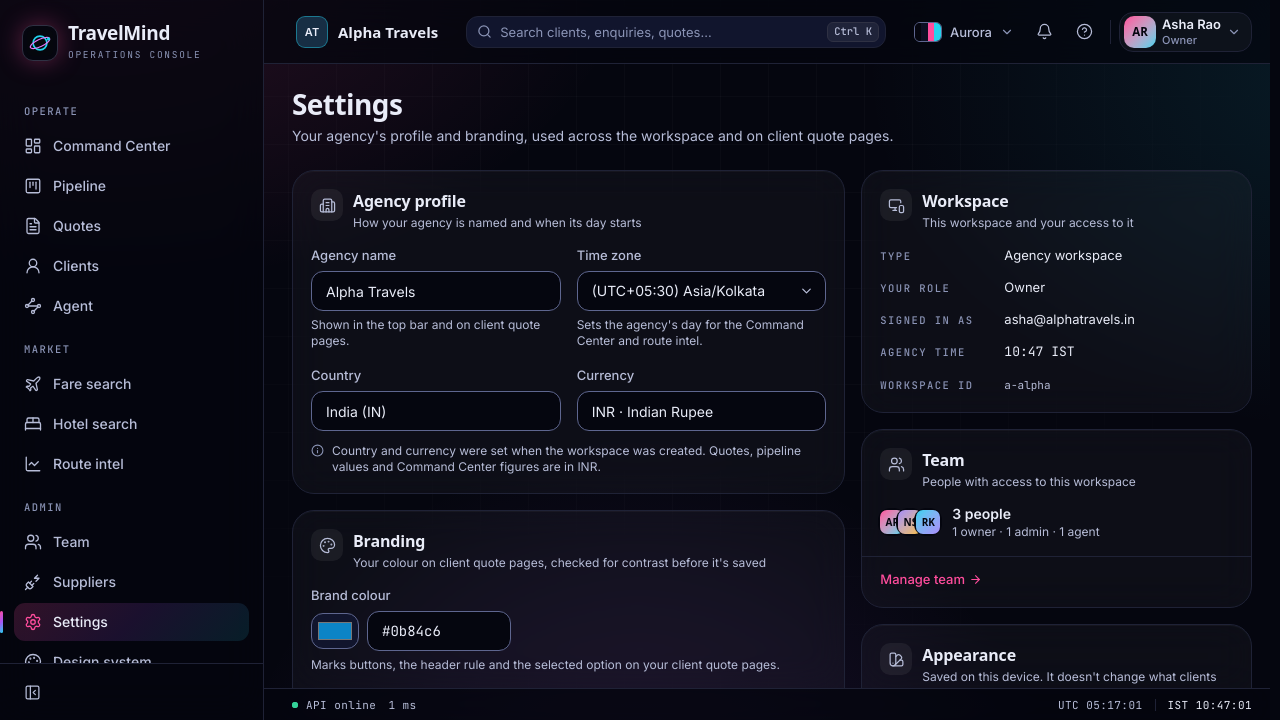
Test: the brand colour follows both the picker and the hex field, and the preview shows it
Replace the text in the field named "Brand colour hex" with "#7C3AED" at (439, 631), box [367,611,511,651]
(page scrolled)
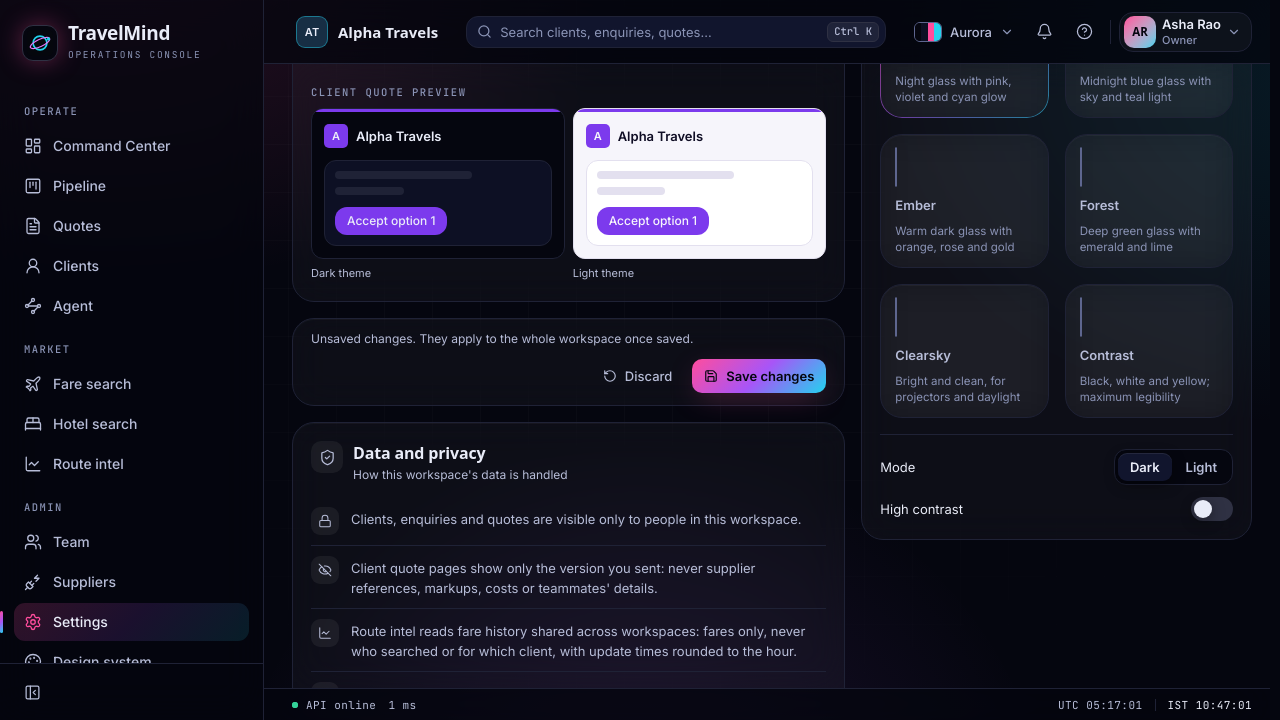
Check: the text "Alpha Travels" is shown 2 times, box [356,126,441,146]; [618,126,703,146]
Check: the text "Accept option 1" is shown 2 times, box [335,207,448,235]; [597,207,709,235]
Click the button "Save changes" at (759, 376), box [692,359,826,393]
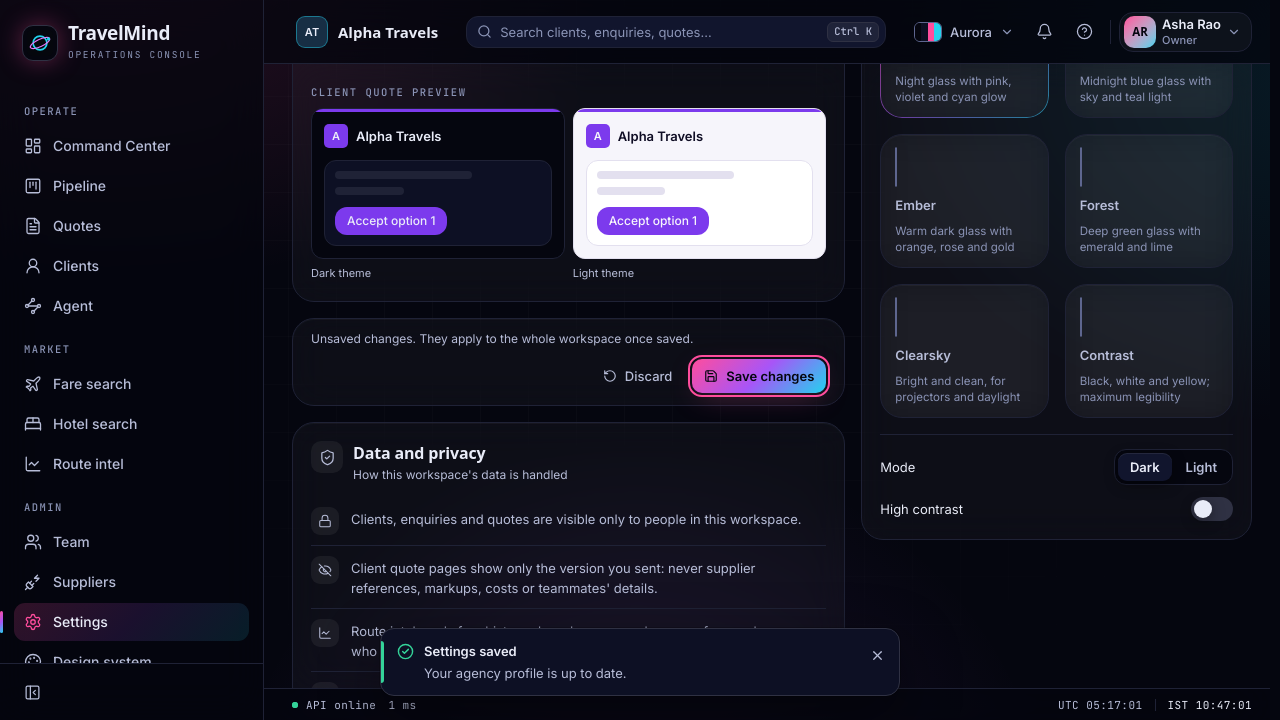
Check: the text "Settings saved" is shown, box [424,643,517,659]
